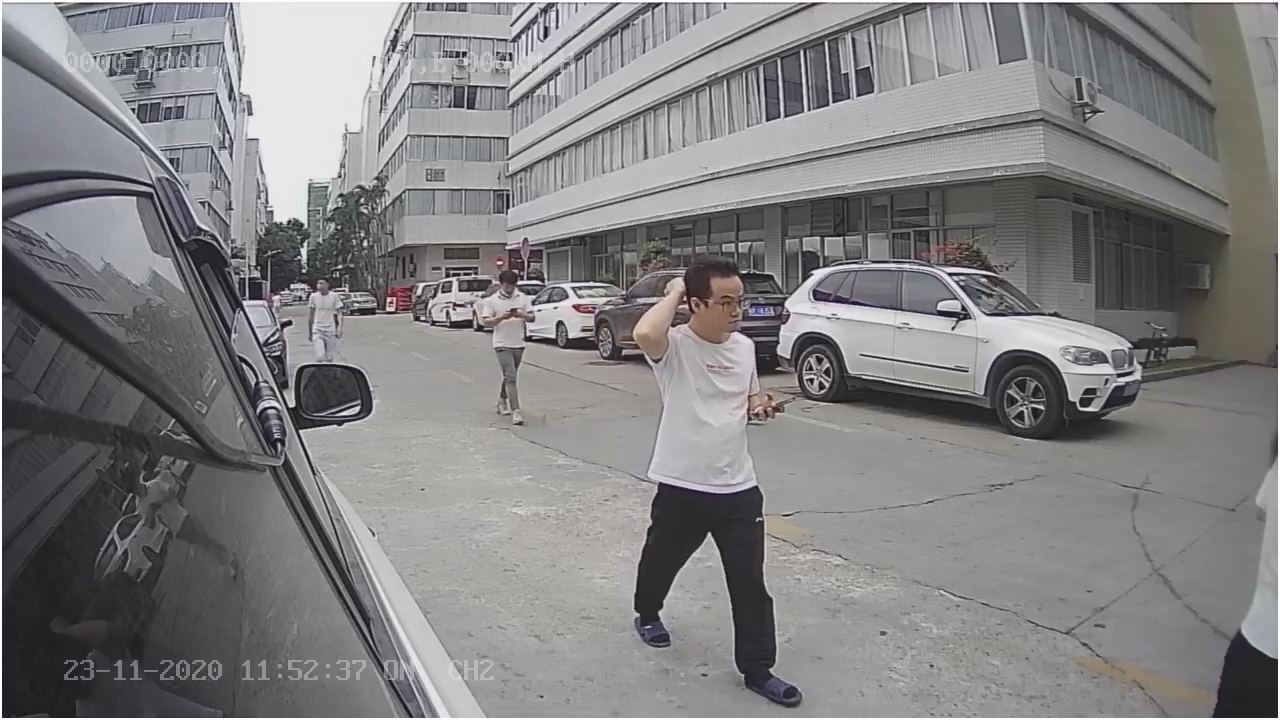person: (645, 259, 792, 699)
